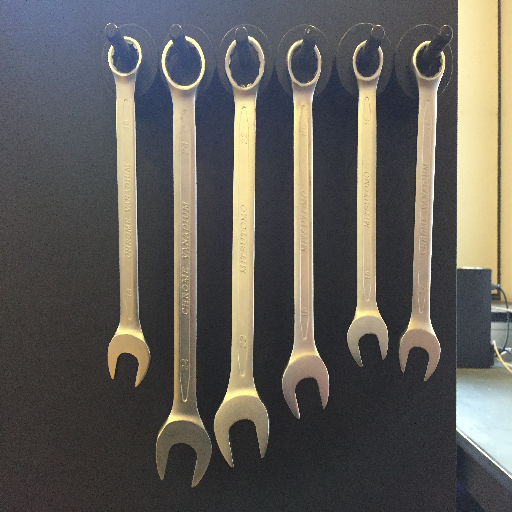bottom: (209, 391, 270, 468), (152, 418, 215, 488), (278, 355, 334, 419), (104, 331, 155, 388), (342, 313, 391, 368), (397, 325, 444, 381)
top: (219, 32, 266, 95), (158, 33, 206, 91), (283, 35, 324, 89), (408, 36, 451, 85), (106, 32, 145, 76), (349, 37, 385, 84)
